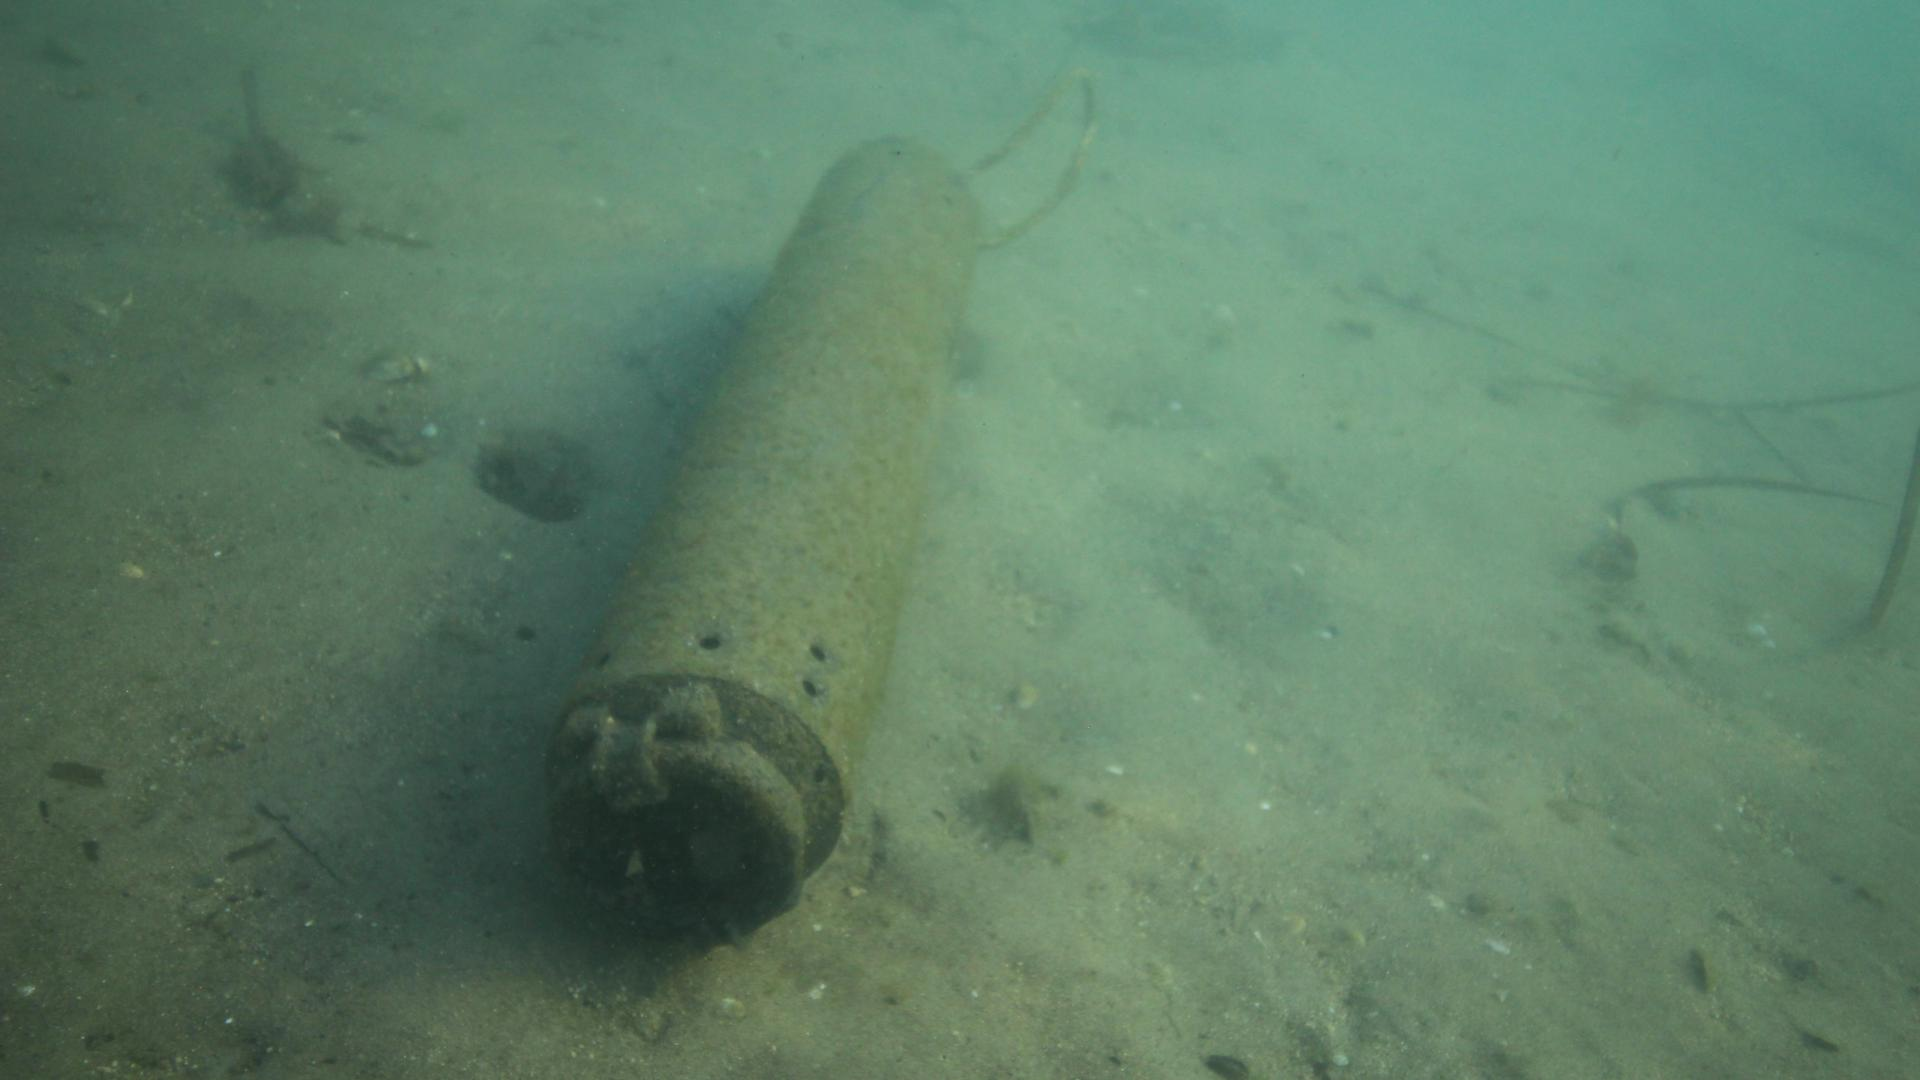eel fish trap: (537, 131, 982, 952)
rope: (945, 62, 1101, 244)
